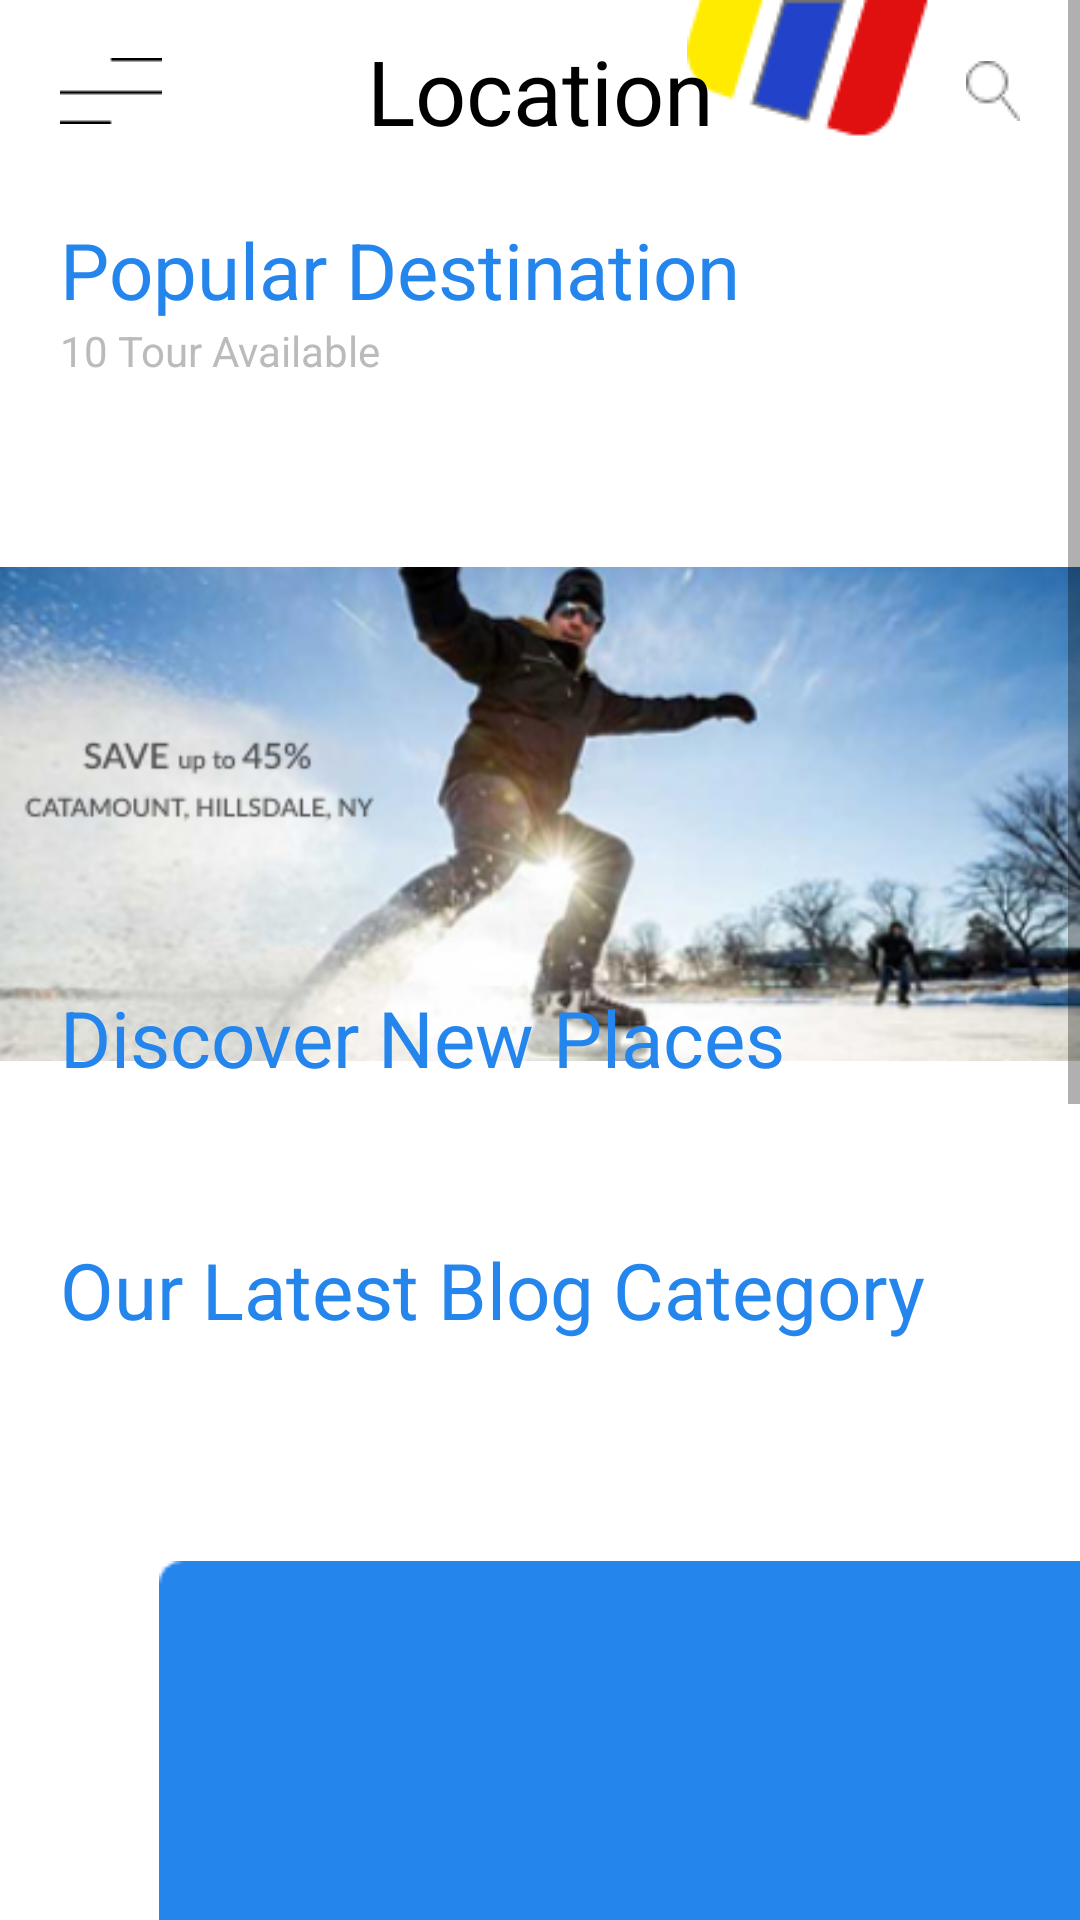

Where icons sit on this 1080×1920 app screen, as (x1, y1, x2, y2):
lines menu: (60, 58, 162, 124)
search: (966, 61, 1020, 121)
